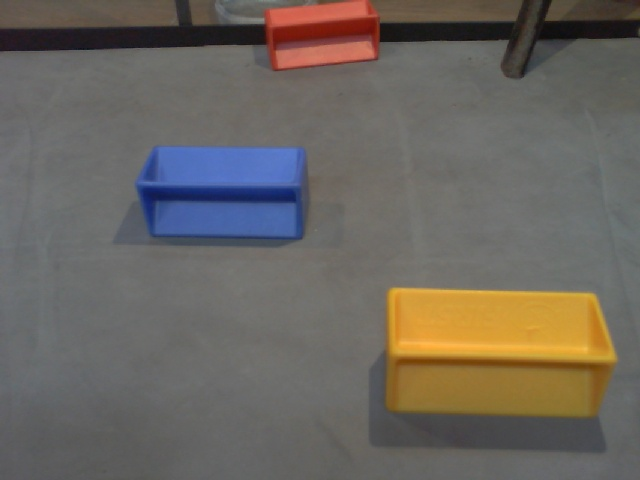BlueSample: (134, 140, 313, 246)
RedSample: (258, 1, 384, 71)
YellowSample: (378, 286, 619, 428)
